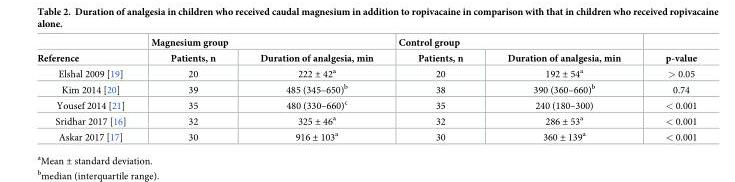table: (36, 37, 696, 143)
table column: (484, 37, 642, 143), (237, 37, 385, 143), (36, 37, 137, 143), (137, 37, 237, 143), (385, 37, 484, 143), (642, 37, 696, 143)
table column header: (36, 37, 696, 64)
table row: (36, 64, 696, 81), (36, 96, 696, 112), (36, 112, 696, 128), (36, 81, 696, 96), (36, 128, 696, 143), (36, 50, 696, 64), (36, 37, 696, 50)
table spanning cell: (385, 37, 642, 50), (137, 37, 385, 50), (36, 37, 137, 64), (642, 37, 696, 64)
